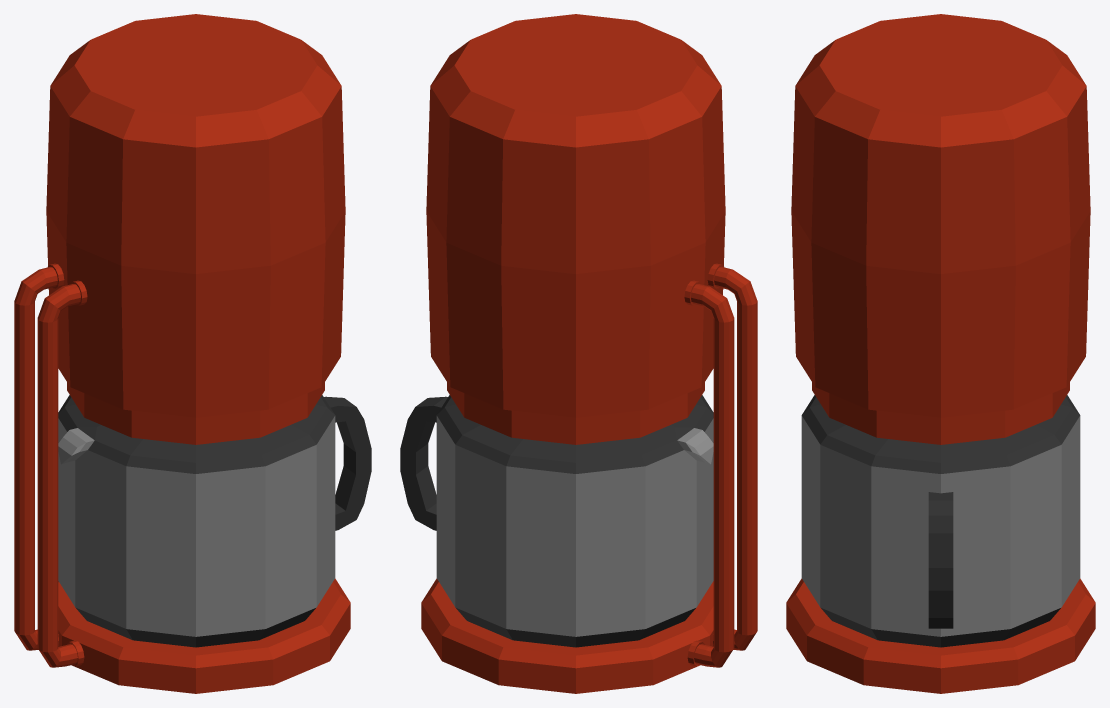
File: Dripper.fbx
The picture shows the model from 3 angles, left to right: view 1: azimuth 30°, elevation 25°; view 2: azimuth 150°, elevation 25°; view 3: azimuth 270°, elevation 25°; orthographic projection.
Parts seen in each view (by area): view 1: Dripper; view 2: Dripper; view 3: Dripper.
Part boxes in pixels (<box>): Dripper: <box>14,14,371,693</box>; Dripper: <box>400,14,757,693</box>; Dripper: <box>786,14,1095,693</box>.
Size of the model in its own units: 50.44 by 80.27 by 40.
